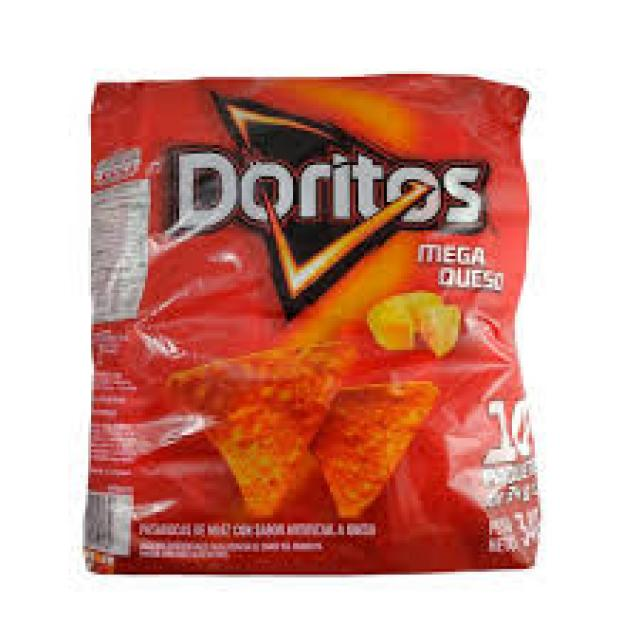Paquete: (92, 76, 534, 566)
